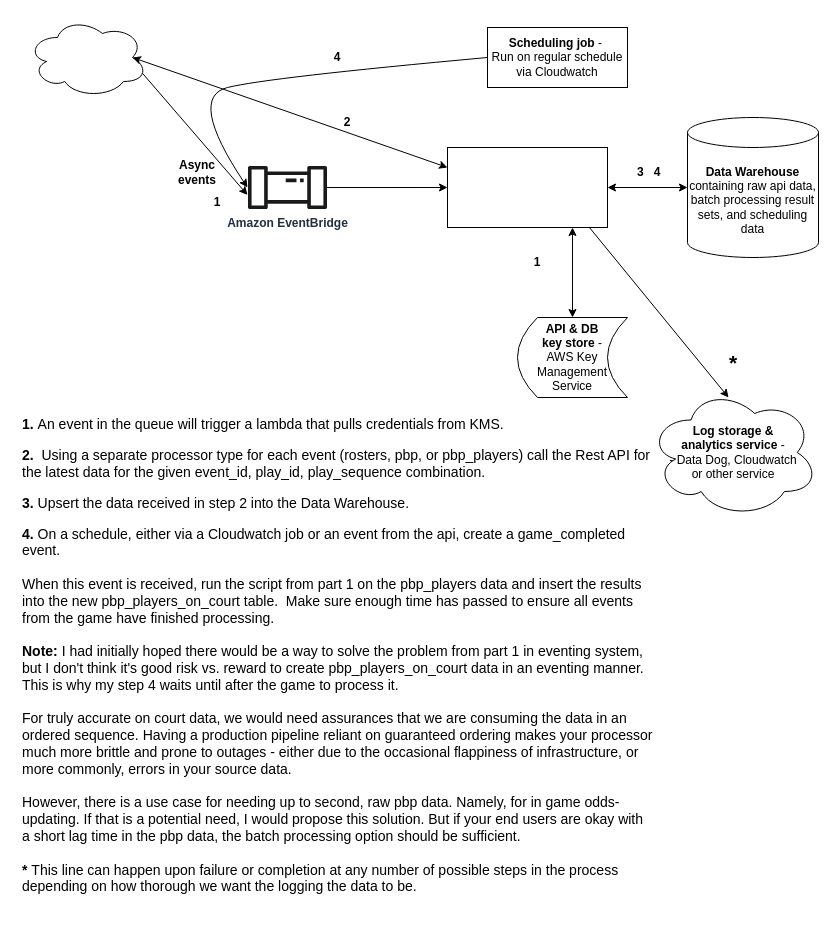
This 836x925 diagram has some shape labels left out. The centre of each missing label's shape, as x and y in pixels:
"Event Processor App - a lambda or similar serverless function" belongs at [527,187].
"Rest API" belongs at [87,57].
